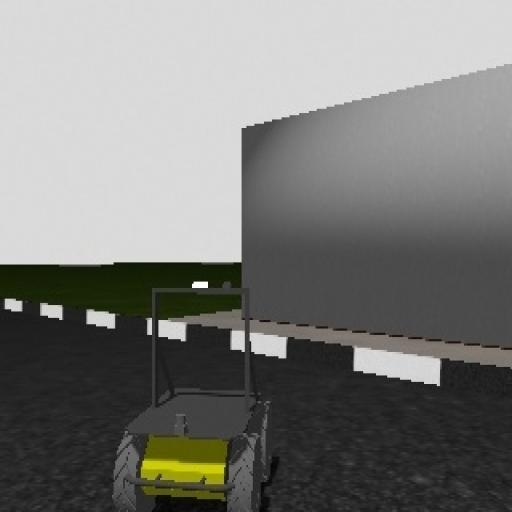huskya200: (92, 273, 277, 512)
